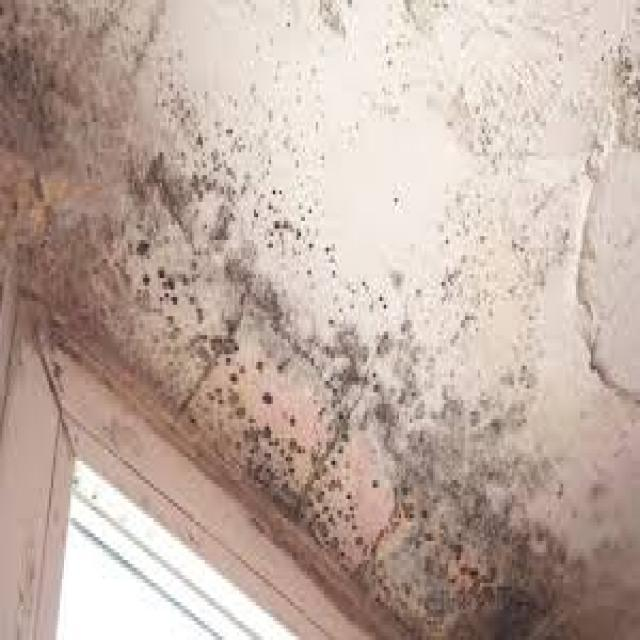stain_mould: (1, 2, 636, 639)
